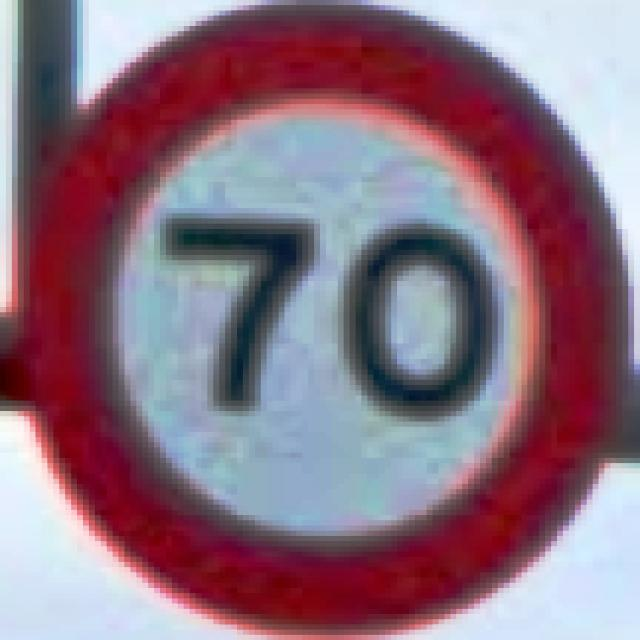max70: (6, 0, 628, 635)
